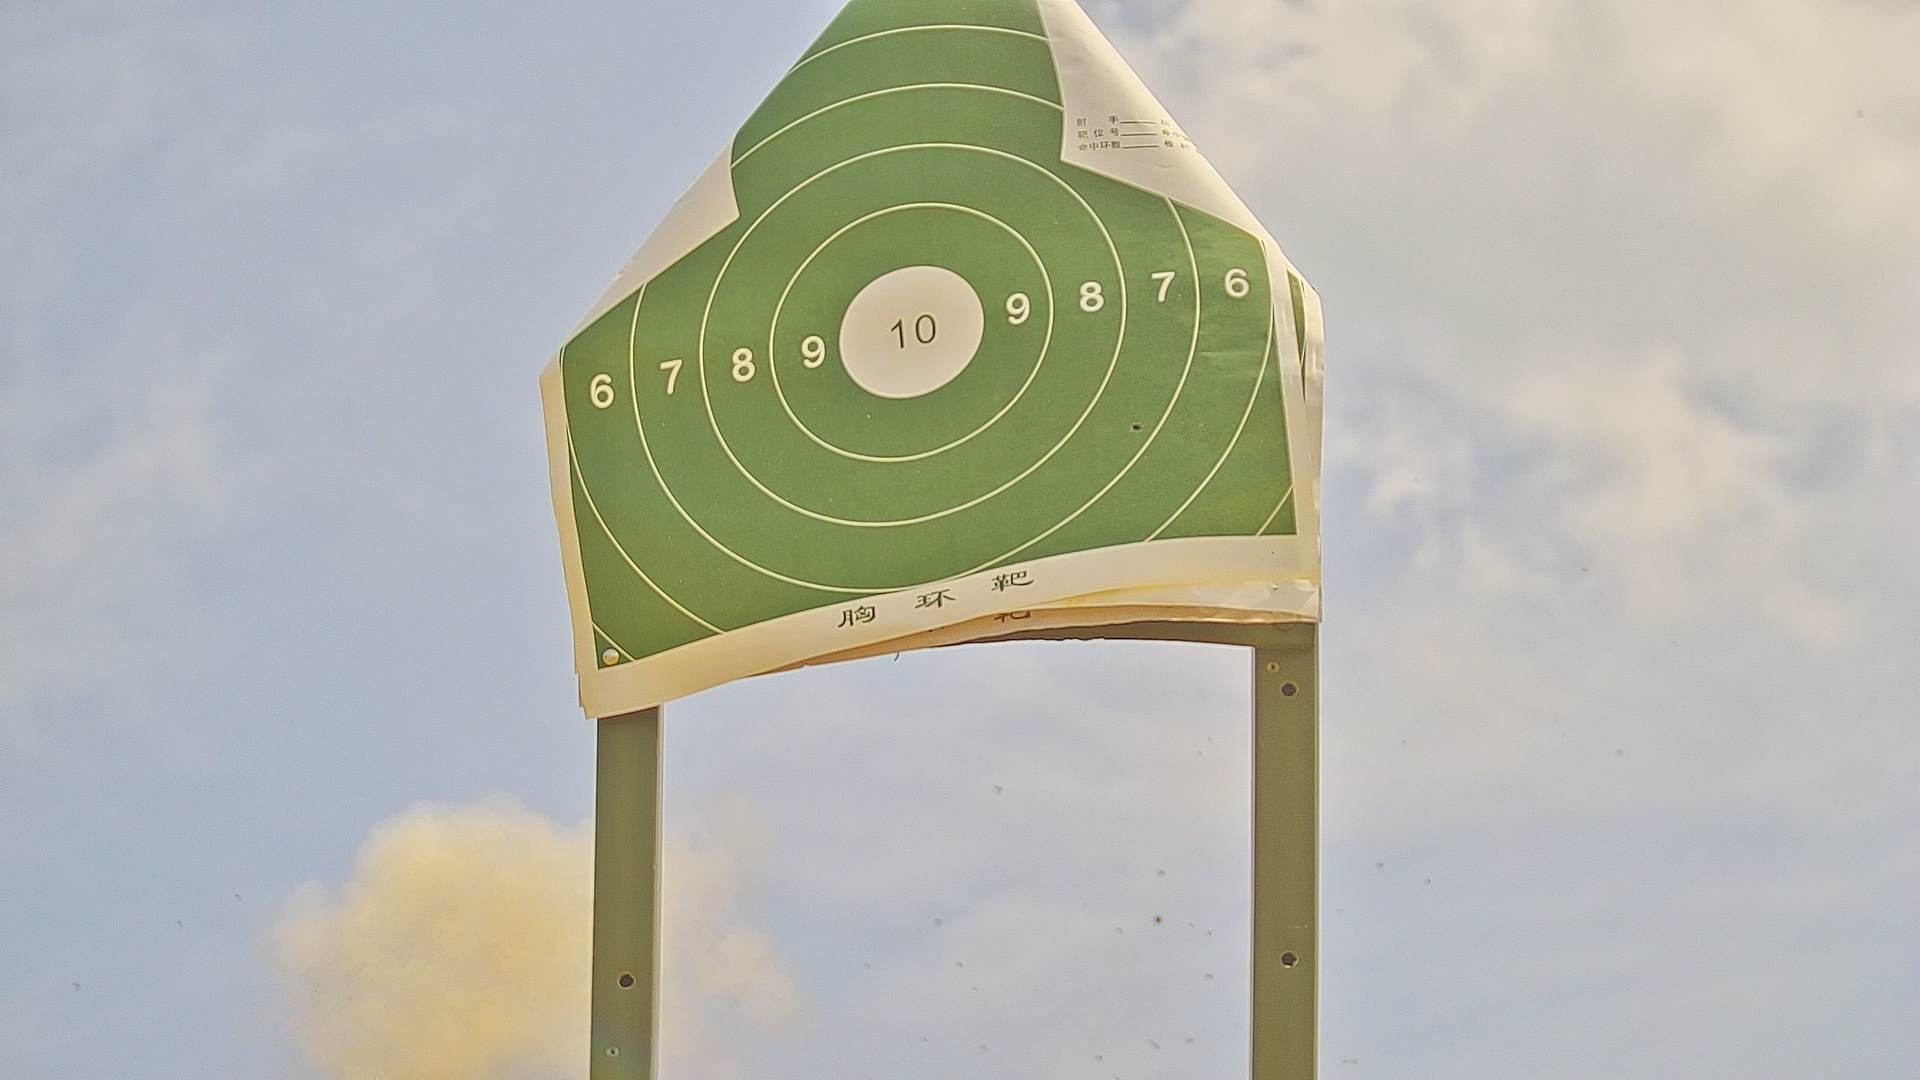hole: (1127, 417, 1147, 434)
kernel: (905, 330, 915, 334)
target: (555, 1, 1298, 670)
ten: (837, 264, 993, 398)
